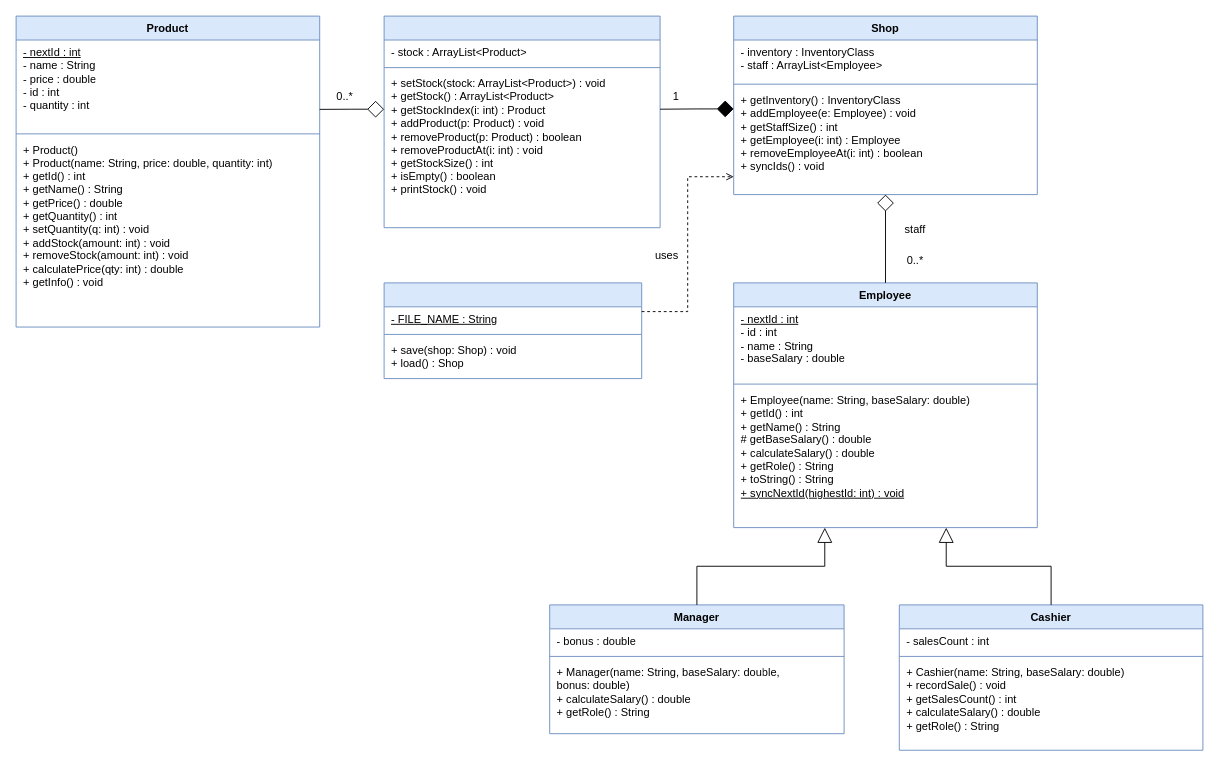
Some shapes in this 1219 by 769 pixel diagram are drawn without their labels. The shapes that lost their labels are listed below. From the top down, each one's box as (x1, y1, x2, y2) in pixels, then its label:
(383, 15, 660, 228): InventoryClass
(383, 282, 642, 379): DataManager
